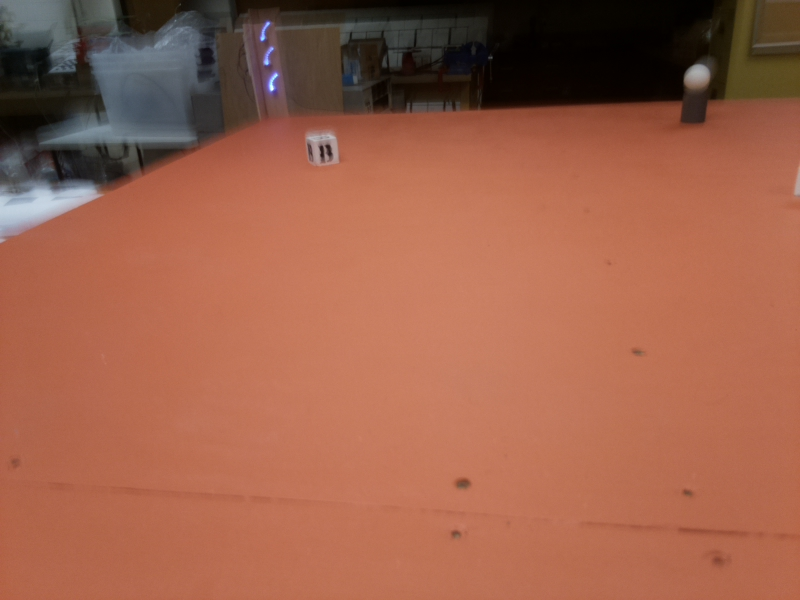blockB: (306, 134, 339, 164)
corner: (240, 15, 294, 119)
obstacle: (679, 59, 714, 125)
